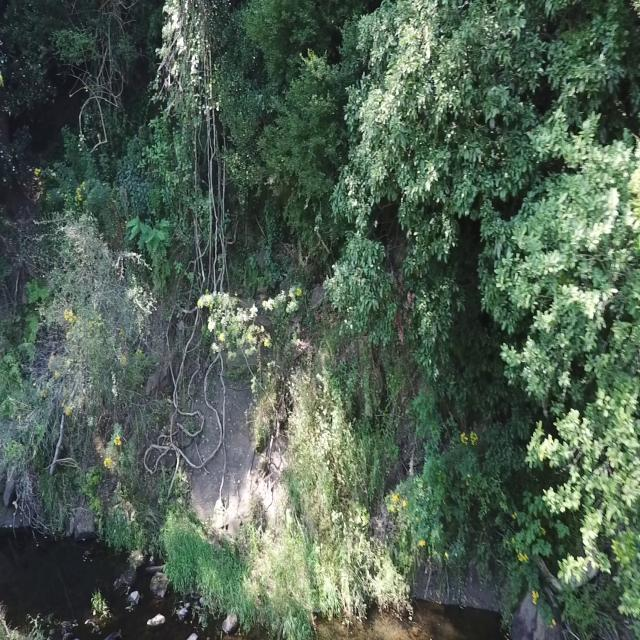Mysore-Thorn-Weed: (124, 208, 171, 259)
